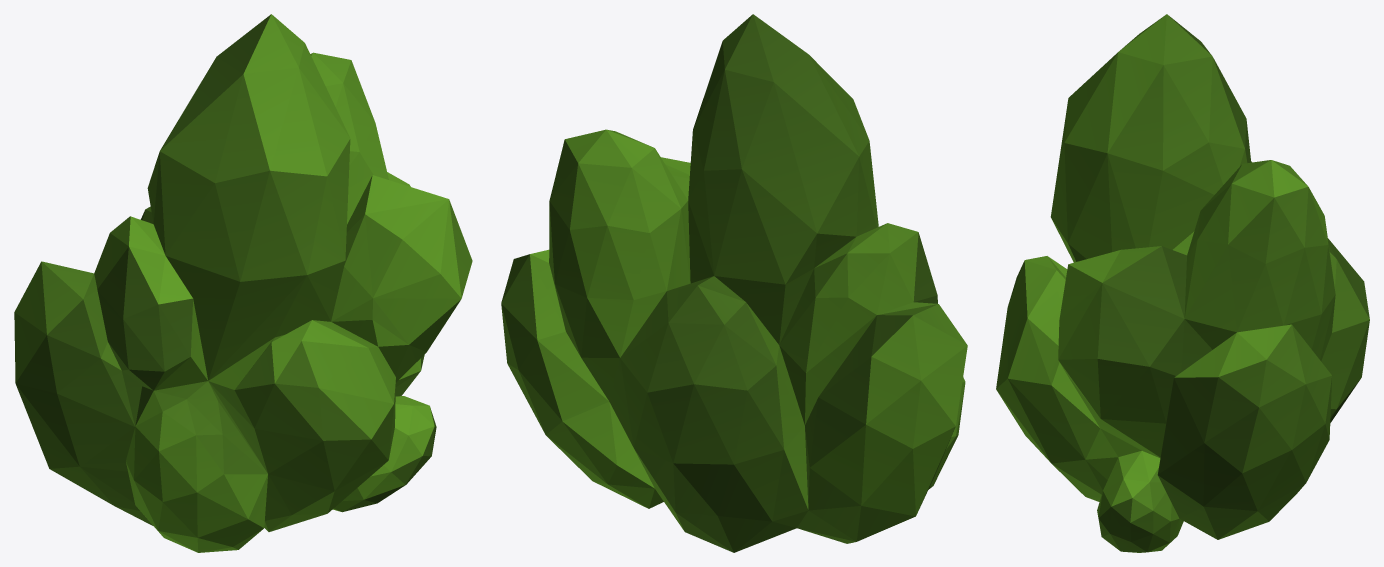
File: BushBig.fbx
The picture shows the model from 3 angles, left to right: view 1: azimuth 30°, elevation 25°; view 2: azimuth 150°, elevation 25°; view 3: azimuth 270°, elevation 25°; orthographic projection.
Visible parts, largest first — view 1: BushBig_LOD0; view 2: BushBig_LOD0; view 3: BushBig_LOD0.
Boxes of the visible parts, x1=… form: BushBig_LOD0: x1=14, y1=14, x2=472, y2=552; BushBig_LOD0: x1=501, y1=14, x2=967, y2=552; BushBig_LOD0: x1=996, y1=14, x2=1369, y2=552.
Size of what is drawn, in the model's own units: 286 by 326 by 216.
